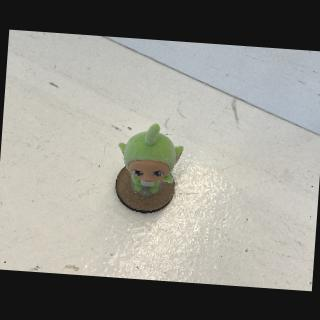teletubby: (118, 123, 183, 194)
